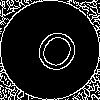O: (25, 25, 84, 85)
